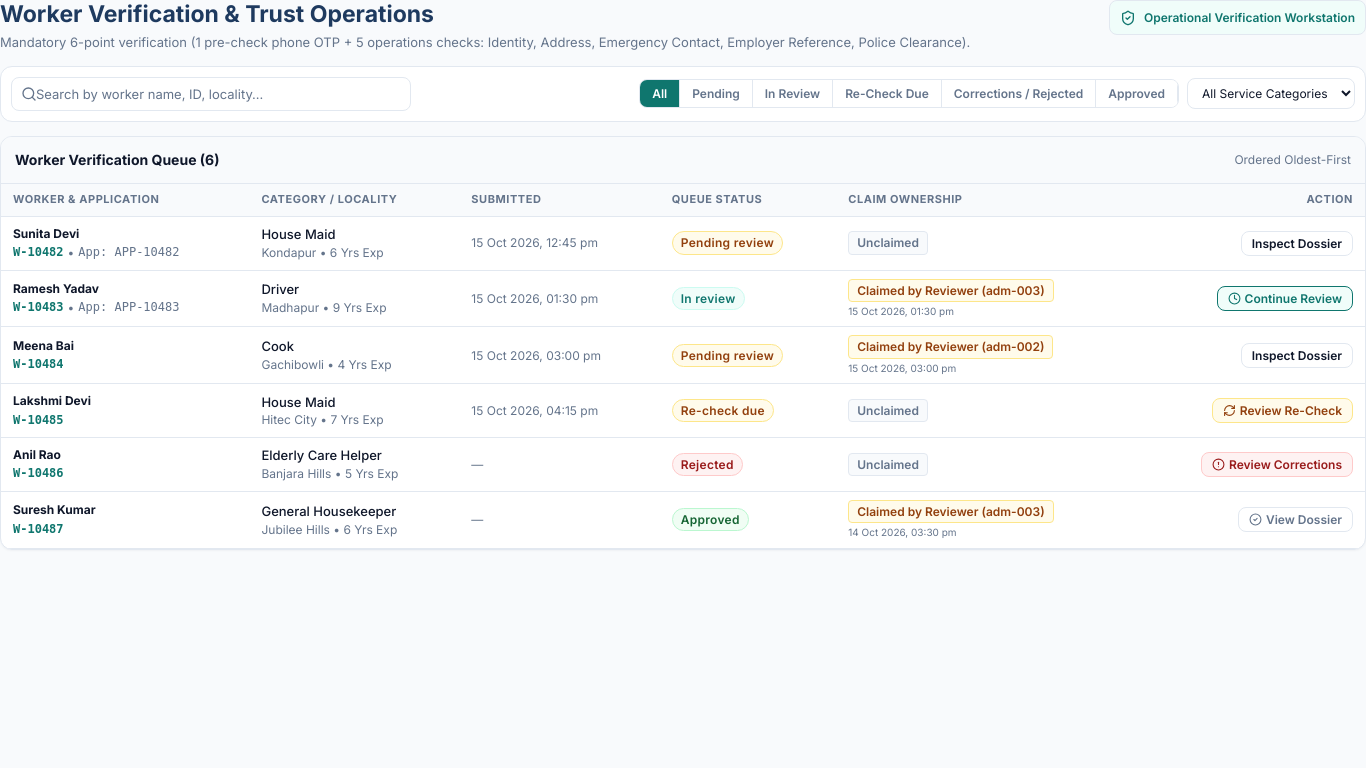
Scenario: Worker Application & Verification Complete Workflow › 3. Role Boundaries & Unauthorized Access Protections › hides KYC document attachments when user lacks documents.view_restricted permission
Click the 1st button "Inspect Dossier" at [1297, 243], box [1241,231,1353,256]
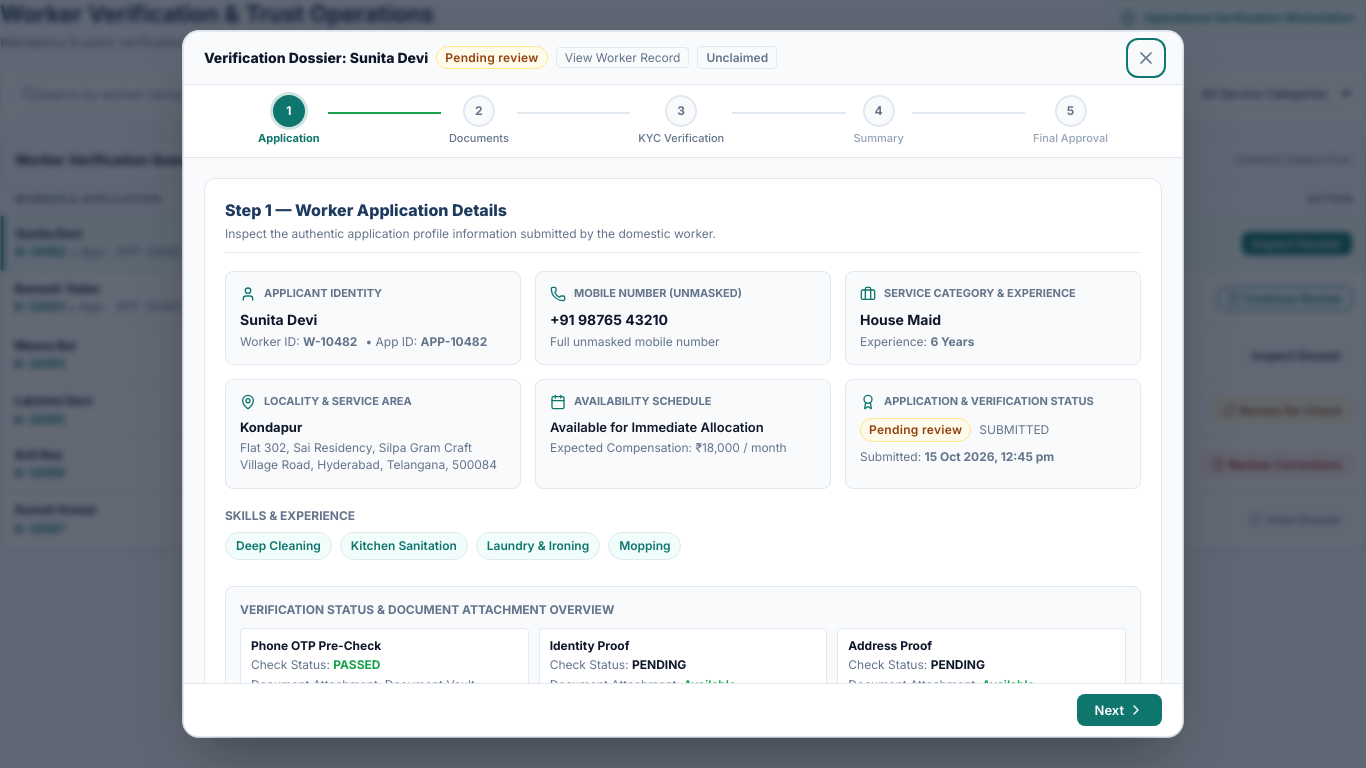
Move to Step 2: Documents Review
Click the button "Next" at [1119, 710], box [1076,694,1162,726]
(page scrolled)
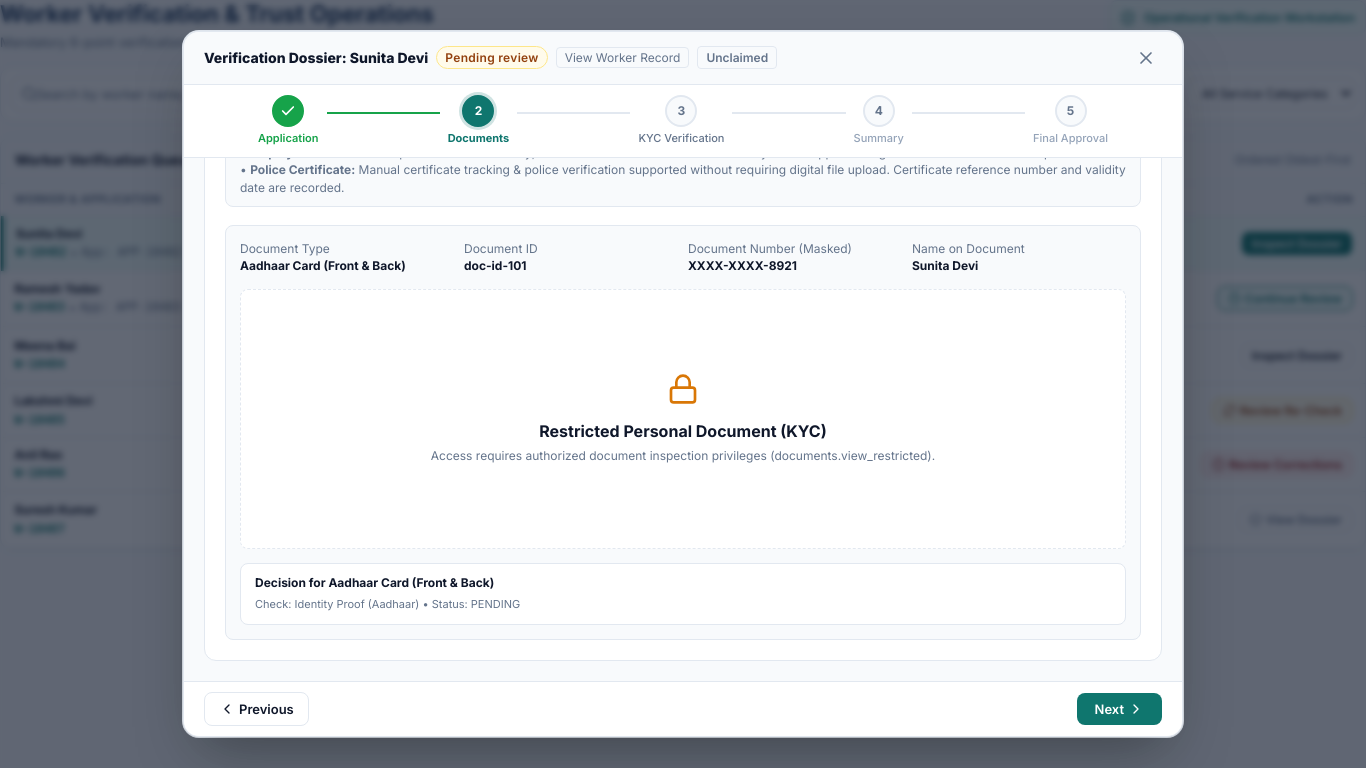
Expected: the heading "Restricted Personal Document (KYC)" is shown, [539,421,827,441]
Expected: the text "documents.view_restricted" is shown, [431,448,935,463]
